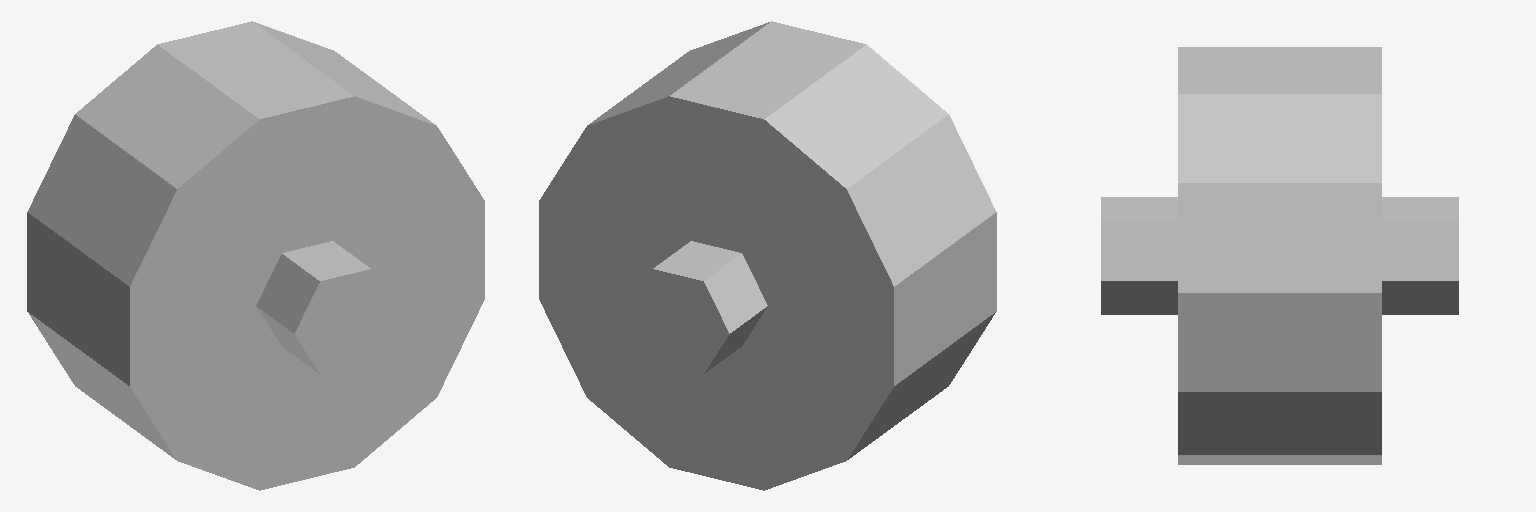
Rendered from ground-intake-far-left-roller.obj.
3 views of the same model, side by side, from view 1: azimuth 30°, elevation 25°; view 2: azimuth 150°, elevation 25°; view 3: azimuth 270°, elevation 25° (orthographic).
Visible parts, largest first — view 1: mesh7, mesh14, mesh13, mesh15, mesh12, mesh3, mesh16, mesh11, mesh2, mesh1, mesh4; view 2: mesh20, mesh14, mesh13, mesh15, mesh12, mesh22, mesh16, mesh11, mesh25, mesh26, mesh24; view 3: mesh10, mesh9, mesh11, mesh8, mesh12, mesh0, mesh27, mesh6, mesh21, mesh19, mesh1, mesh26.
Part boxes in pixels (bbox=[...]): mesh7: bbox=[130, 96, 484, 490]; mesh14: bbox=[28, 115, 176, 286]; mesh13: bbox=[75, 45, 259, 188]; mesh15: bbox=[27, 212, 129, 385]; mesh12: bbox=[157, 21, 353, 118]; mesh3: bbox=[295, 269, 396, 373]; mesh16: bbox=[28, 312, 175, 459]; mesh11: bbox=[254, 22, 436, 125]; mesh2: bbox=[256, 254, 319, 333]; mesh1: bbox=[282, 241, 370, 280]; mesh4: bbox=[256, 306, 319, 373]; mesh20: bbox=[539, 96, 893, 490]; mesh14: bbox=[847, 115, 995, 286]; mesh13: bbox=[764, 45, 948, 188]; mesh15: bbox=[894, 212, 996, 385]; mesh12: bbox=[670, 21, 866, 118]; mesh22: bbox=[627, 269, 728, 373]; mesh16: bbox=[848, 312, 995, 459]; mesh11: bbox=[587, 22, 769, 125]; mesh25: bbox=[704, 254, 767, 333]; mesh26: bbox=[653, 241, 741, 280]; mesh24: bbox=[704, 306, 767, 373]; mesh10: bbox=[1178, 183, 1381, 292]; mesh9: bbox=[1178, 293, 1381, 391]; mesh11: bbox=[1178, 94, 1381, 182]; mesh8: bbox=[1178, 392, 1381, 454]; mesh12: bbox=[1178, 47, 1381, 93]; mesh0: bbox=[1101, 222, 1177, 280]; mesh27: bbox=[1382, 222, 1458, 280]; mesh6: bbox=[1101, 281, 1177, 314]; mesh21: bbox=[1382, 281, 1458, 314]; mesh19: bbox=[1178, 455, 1381, 464]; mesh1: bbox=[1101, 197, 1177, 221]; mesh26: bbox=[1382, 197, 1458, 221].
Size of the model in its own units: 0.0508 by 0.0508 by 0.0444.